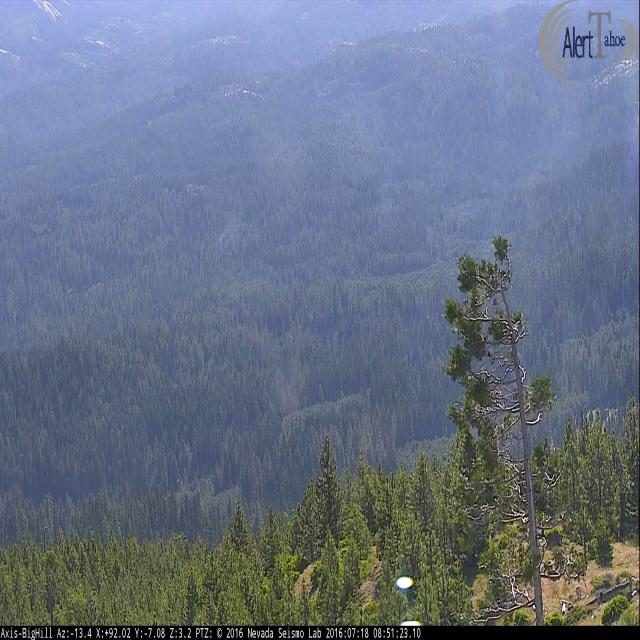smoke: (220, 213, 240, 247)
